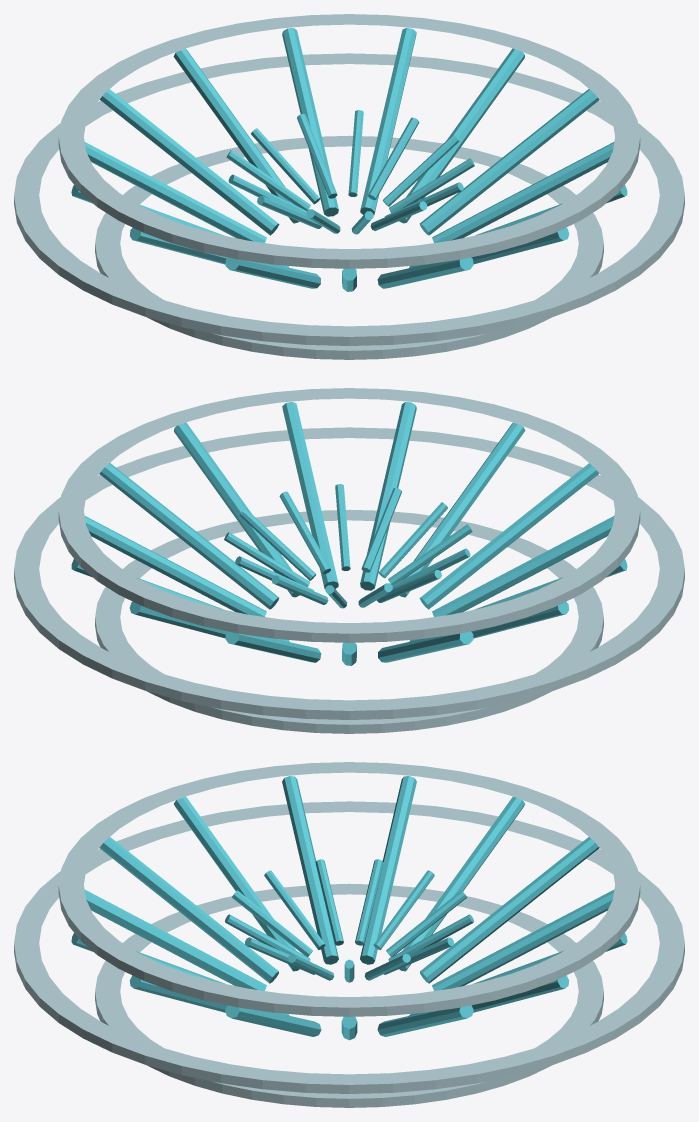
File: 30_L78_LowKPlasmaSource.glb
The picture shows the model from 3 angles, top to bottom: view 1: azimuth 30°, elevation 25°; view 2: azimuth 150°, elevation 25°; view 3: azimuth 270°, elevation 25°; orthographic projection.
Visible parts, largest first — view 1: LowKPlasmaSource_Node_0001, LowKPlasmaSource_Node_0002, LowKPlasmaSource_Node_0000, LowKPlasmaSource_Node_0003, LowKPlasmaSource_Node_0013, LowKPlasmaSource_Node_0004, LowKPlasmaSource_Node_0012, LowKPlasmaSource_Node_0016, LowKPlasmaSource_Node_0014, LowKPlasmaSource_Node_0017, LowKPlasmaSource_Node_0015, LowKPlasmaSource_Node_0009 (+13 smaller); view 2: LowKPlasmaSource_Node_0001, LowKPlasmaSource_Node_0002, LowKPlasmaSource_Node_0000, LowKPlasmaSource_Node_0003, LowKPlasmaSource_Node_0008, LowKPlasmaSource_Node_0017, LowKPlasmaSource_Node_0009, LowKPlasmaSource_Node_0005, LowKPlasmaSource_Node_0007, LowKPlasmaSource_Node_0004, LowKPlasmaSource_Node_0006, LowKPlasmaSource_Node_0012 (+13 smaller); view 3: LowKPlasmaSource_Node_0001, LowKPlasmaSource_Node_0002, LowKPlasmaSource_Node_0000, LowKPlasmaSource_Node_0008, LowKPlasmaSource_Node_0013, LowKPlasmaSource_Node_0007, LowKPlasmaSource_Node_0014, LowKPlasmaSource_Node_0010, LowKPlasmaSource_Node_0011, LowKPlasmaSource_Node_0009, LowKPlasmaSource_Node_0012, LowKPlasmaSource_Node_0004 (+13 smaller).
Part boxes in pixels (x1,y1,x2,y2): LowKPlasmaSource_Node_0001: (14,53,684,345); LowKPlasmaSource_Node_0002: (58,14,640,268); LowKPlasmaSource_Node_0000: (95,135,603,359); LowKPlasmaSource_Node_0003: (419,89,599,235); LowKPlasmaSource_Node_0013: (99,89,279,235); LowKPlasmaSource_Node_0004: (432,142,614,242); LowKPlasmaSource_Node_0012: (84,142,266,242); LowKPlasmaSource_Node_0016: (360,28,416,214); LowKPlasmaSource_Node_0014: (173,48,299,223); LowKPlasmaSource_Node_0017: (399,48,524,223); LowKPlasmaSource_Node_0015: (282,28,338,216); LowKPlasmaSource_Node_0009: (225,257,320,288); LowKPlasmaSource_Node_0001: (14,427,684,719); LowKPlasmaSource_Node_0002: (58,388,640,642); LowKPlasmaSource_Node_0000: (95,509,603,733); LowKPlasmaSource_Node_0003: (99,463,279,609); LowKPlasmaSource_Node_0008: (419,463,599,609); LowKPlasmaSource_Node_0017: (84,516,266,616); LowKPlasmaSource_Node_0009: (432,516,614,616); LowKPlasmaSource_Node_0005: (282,402,338,588); LowKPlasmaSource_Node_0007: (399,422,525,597); LowKPlasmaSource_Node_0004: (174,422,299,597); LowKPlasmaSource_Node_0006: (360,402,416,590); LowKPlasmaSource_Node_0012: (378,631,473,662); LowKPlasmaSource_Node_0001: (14,801,684,1093); LowKPlasmaSource_Node_0002: (58,762,640,1016); LowKPlasmaSource_Node_0000: (95,883,603,1107); LowKPlasmaSource_Node_0008: (99,837,278,983); LowKPlasmaSource_Node_0013: (420,837,599,983); LowKPlasmaSource_Node_0007: (84,889,266,990); LowKPlasmaSource_Node_0014: (432,889,614,990); LowKPlasmaSource_Node_0010: (282,776,338,964); LowKPlasmaSource_Node_0011: (360,776,416,964); LowKPlasmaSource_Node_0009: (174,796,299,971); LowKPlasmaSource_Node_0012: (399,796,524,971); LowKPlasmaSource_Node_0004: (225,1005,321,1036).
Bounding box in the file's own units: 2.4 × 0.4628 × 2.4.
